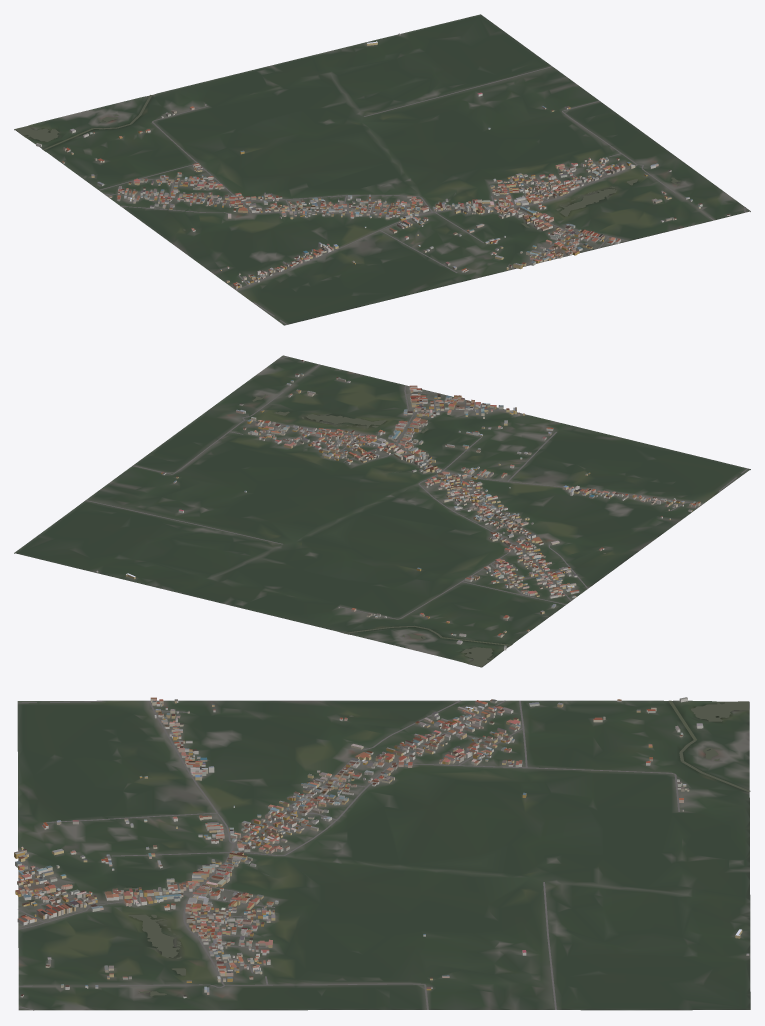
The picture shows the model from 3 angles, top to bottom: view 1: azimuth 30°, elevation 25°; view 2: azimuth 150°, elevation 25°; view 3: azimuth 270°, elevation 25°; orthographic projection. The views are drawn at different scales.
Visible parts, largest first — view 1: ground, buildings, roads, water; view 2: ground, buildings, roads, water; view 3: ground, buildings, roads, water.
Part boxes in pixels (bbox=[...]): ground: bbox=[14, 14, 750, 325]; buildings: bbox=[36, 33, 730, 289]; roads: bbox=[99, 66, 746, 324]; water: bbox=[15, 95, 680, 230]; ground: bbox=[14, 355, 750, 667]; buildings: bbox=[96, 360, 700, 650]; roads: bbox=[85, 356, 748, 619]; water: bbox=[252, 394, 605, 666]; ground: bbox=[17, 700, 750, 1010]; buildings: bbox=[14, 697, 749, 998]; roads: bbox=[18, 700, 679, 1010]; water: bbox=[123, 700, 750, 996].
Bounding box in the file's own units: 1410 × 17.4 × 1412.
